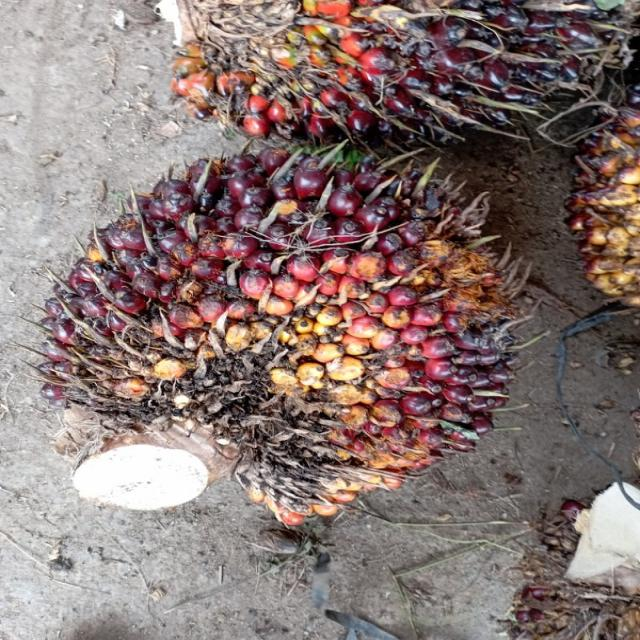fraksi 1: (45, 128, 522, 510)
